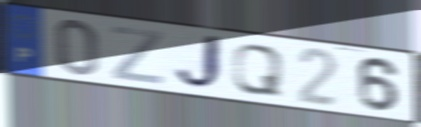0: (53, 17, 101, 78)
2: (296, 47, 342, 109)
6: (356, 56, 401, 113)
J: (171, 32, 225, 93)
Q: (230, 42, 286, 98)
Z: (109, 24, 164, 87)
